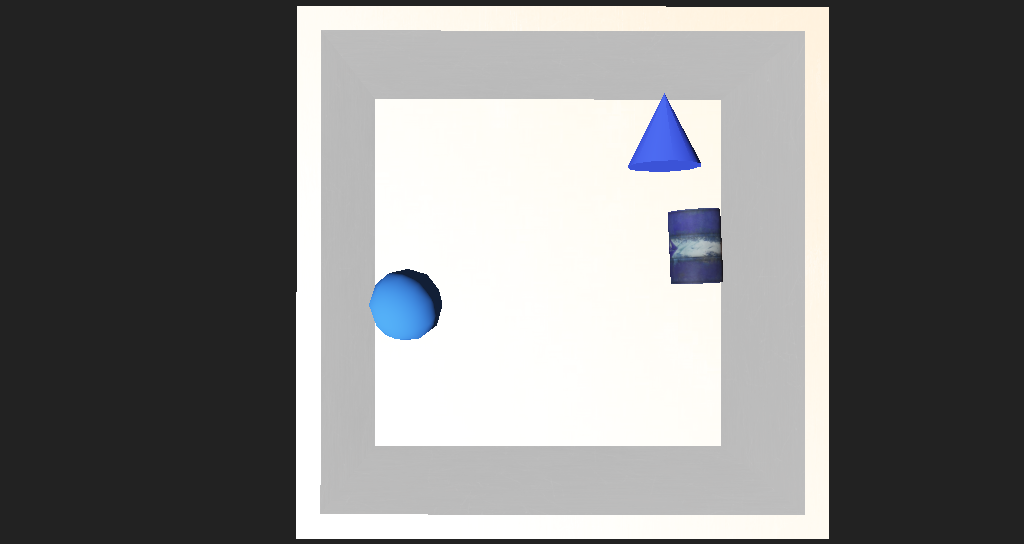cone: (606, 229, 660, 277)
cylinder: (573, 155, 640, 208)
sphere: (354, 270, 414, 313)
